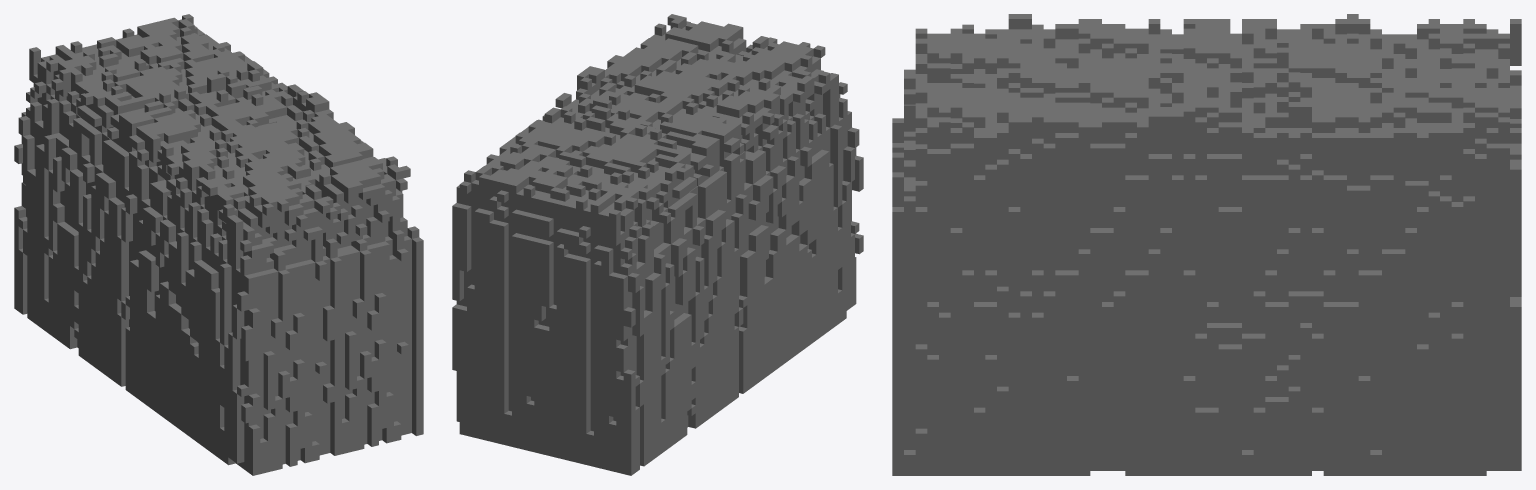
Rendered from pierre.obj.
3 views of the same model, side by side, from view 1: azimuth 30°, elevation 25°; view 2: azimuth 150°, elevation 25°; view 3: azimuth 270°, elevation 25° (orthographic). The views are drawn at different scales.
Bounding box in the file's own units: 2.4 × 3.4 × 5.4.
1 material, 1 textured.
